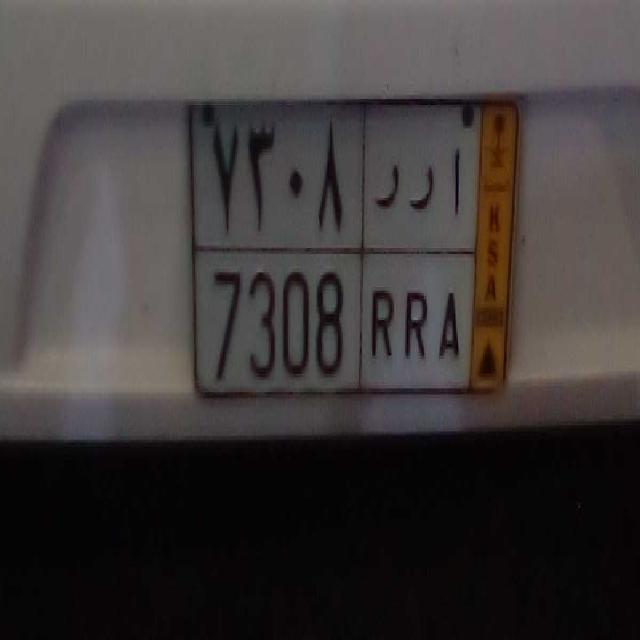license_plate: (192, 242, 473, 403)
